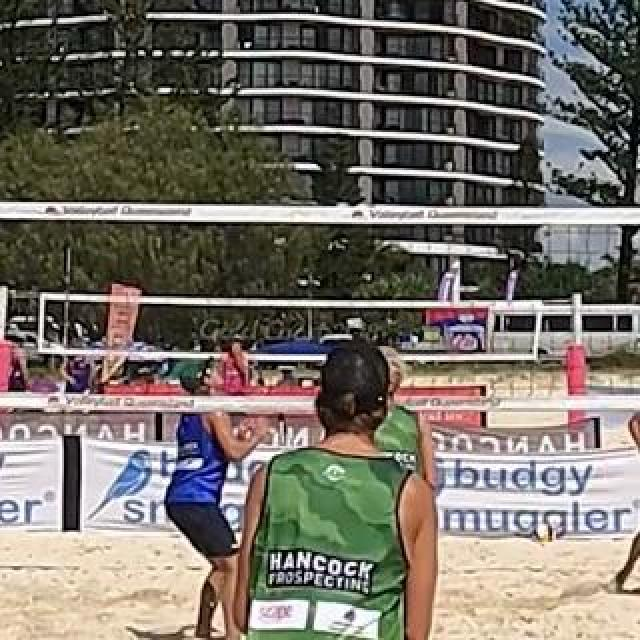volleyball: (533, 522, 555, 544)
